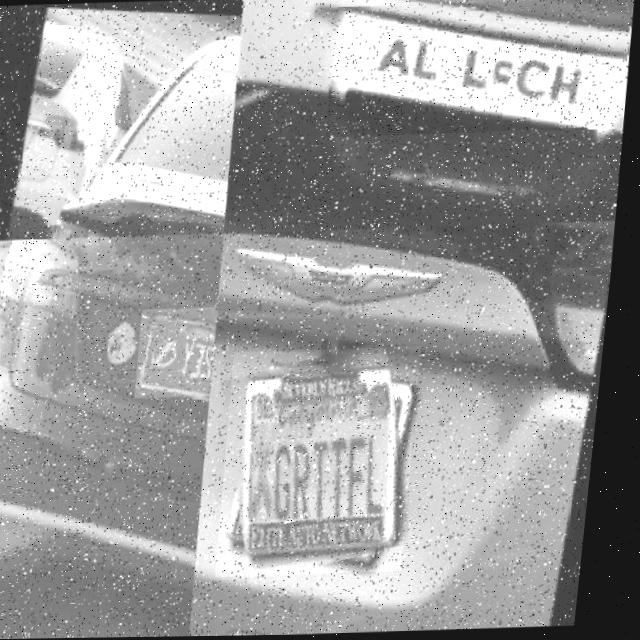LicensePlate: (223, 347, 432, 577), (333, 8, 629, 130), (144, 310, 221, 396)
